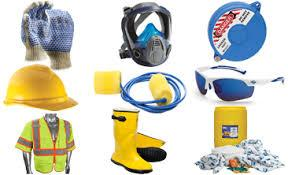gloves: (37, 9, 75, 70), (20, 1, 55, 62)
